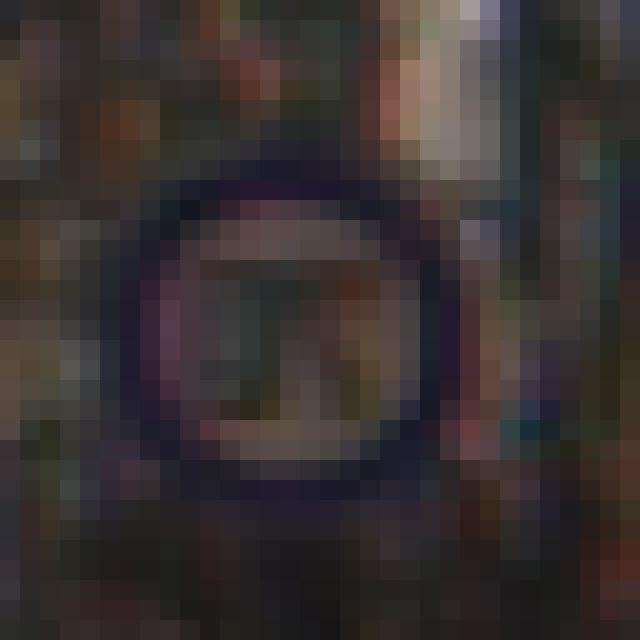SPEED LIMIT 70: (126, 172, 450, 506)
